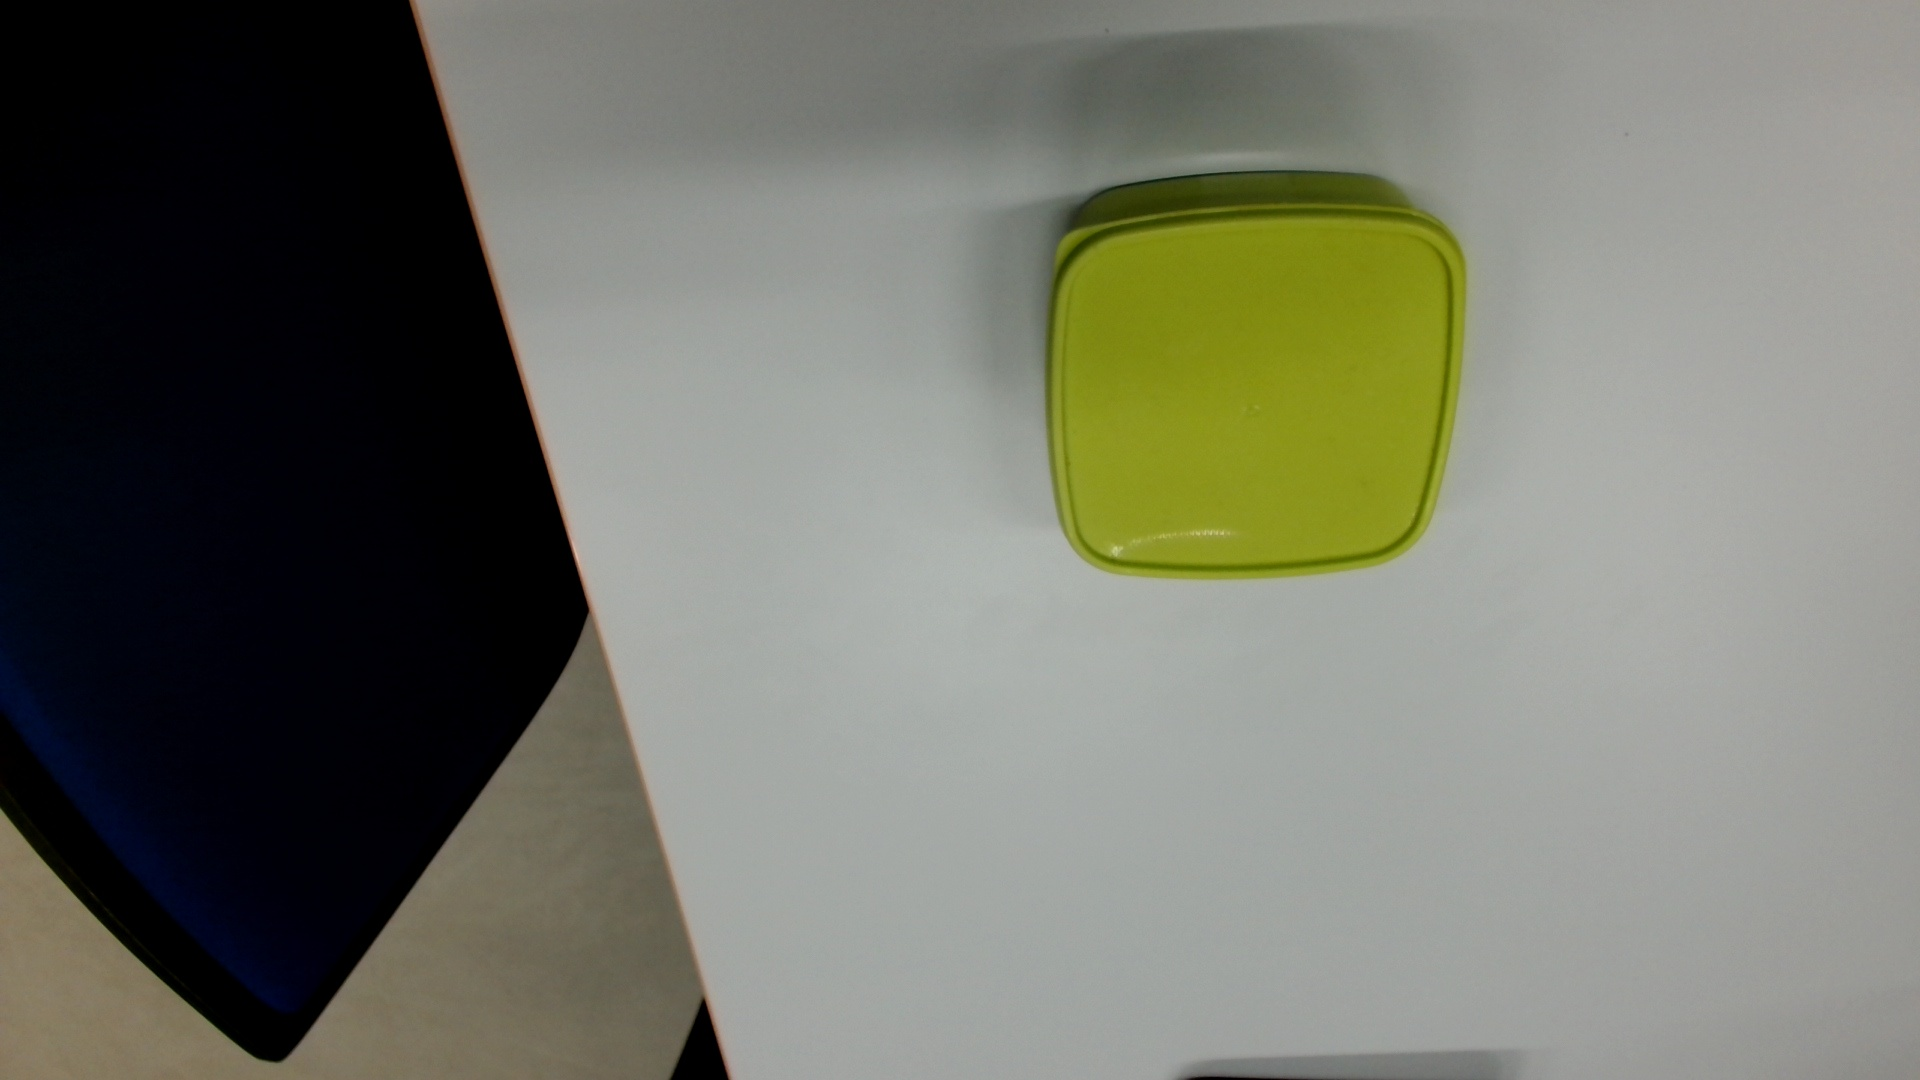Box: (1036, 167, 1472, 591)
